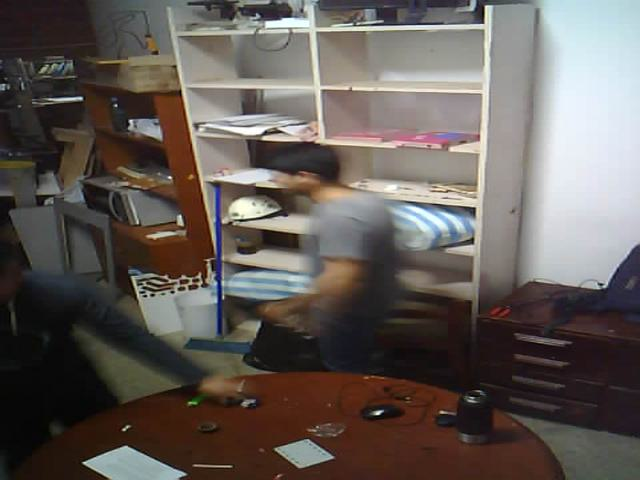person: (0, 205, 267, 471), (230, 127, 425, 399)
